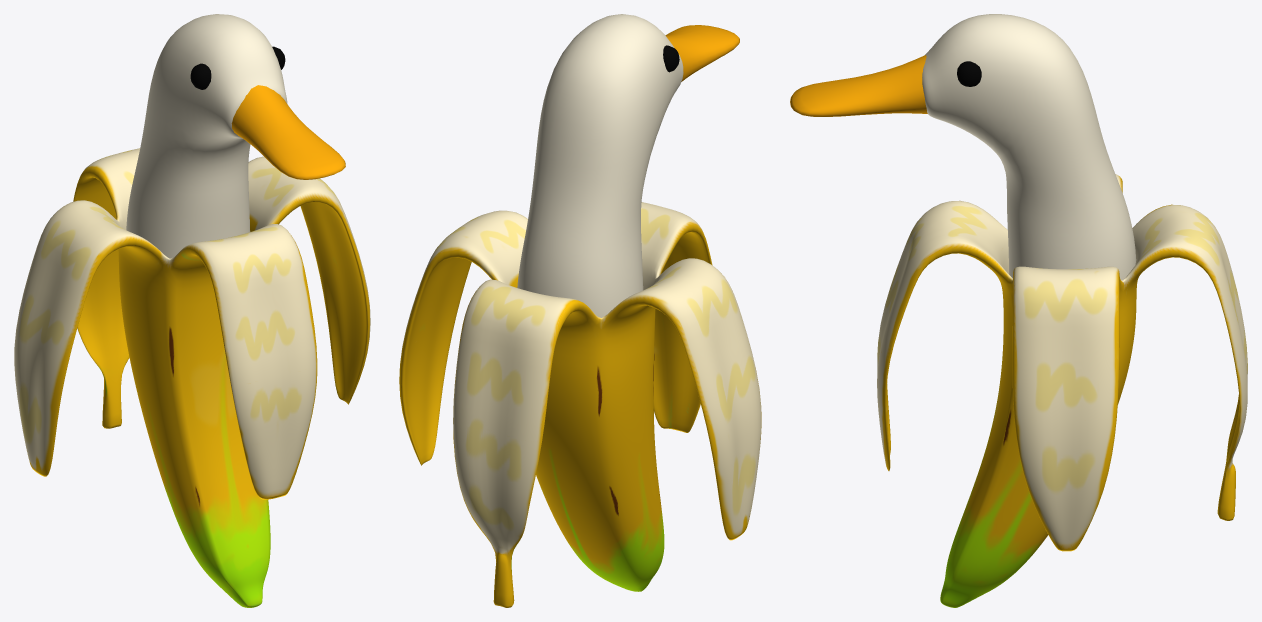
The model's file is banana_duck.glb.
3 renders of one model, left to right at view 1: azimuth 30°, elevation 25°; view 2: azimuth 150°, elevation 25°; view 3: azimuth 270°, elevation 25°, orthographic. The views are drawn at different scales.
Parts seen in each view (by area): view 1: Object_4; view 2: Object_4; view 3: Object_4.
Part boxes in pixels (x1=…): Object_4: x1=14, y1=14, x2=370, y2=607; Object_4: x1=399, y1=14, x2=761, y2=607; Object_4: x1=790, y1=14, x2=1247, y2=607.
Size of the model in its own units: 2.52 by 4.25 by 3.01.
4 materials, 1 textured.
